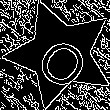O_NE: (27, 21, 93, 87)
